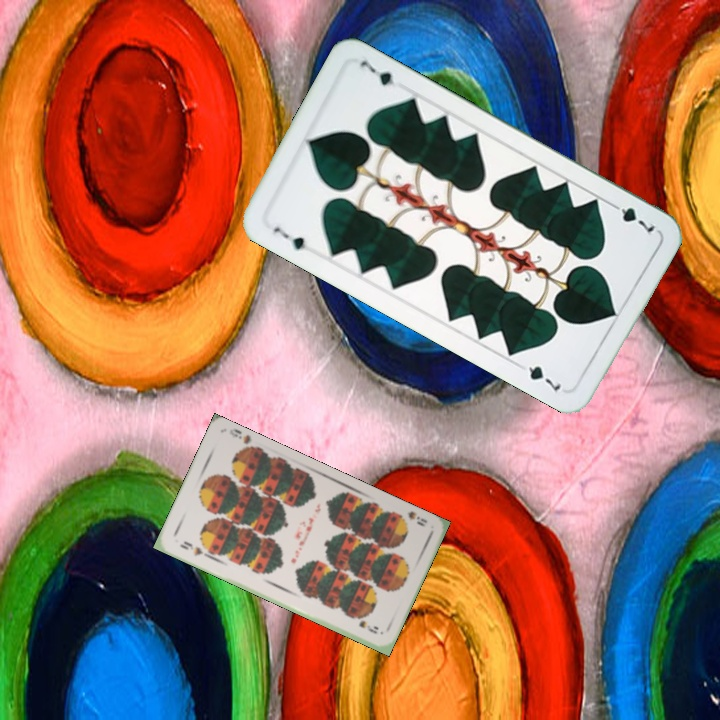G7: (606, 198, 658, 236), (269, 222, 308, 253)
S9: (392, 507, 430, 529), (175, 537, 210, 559)
